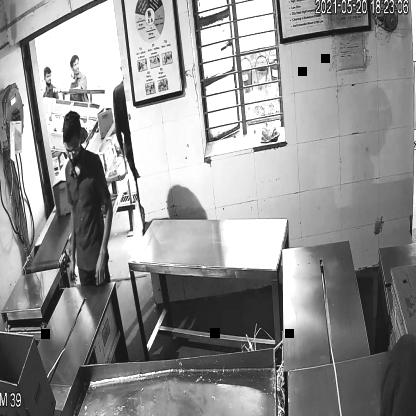goggles: (63, 141, 82, 159)
